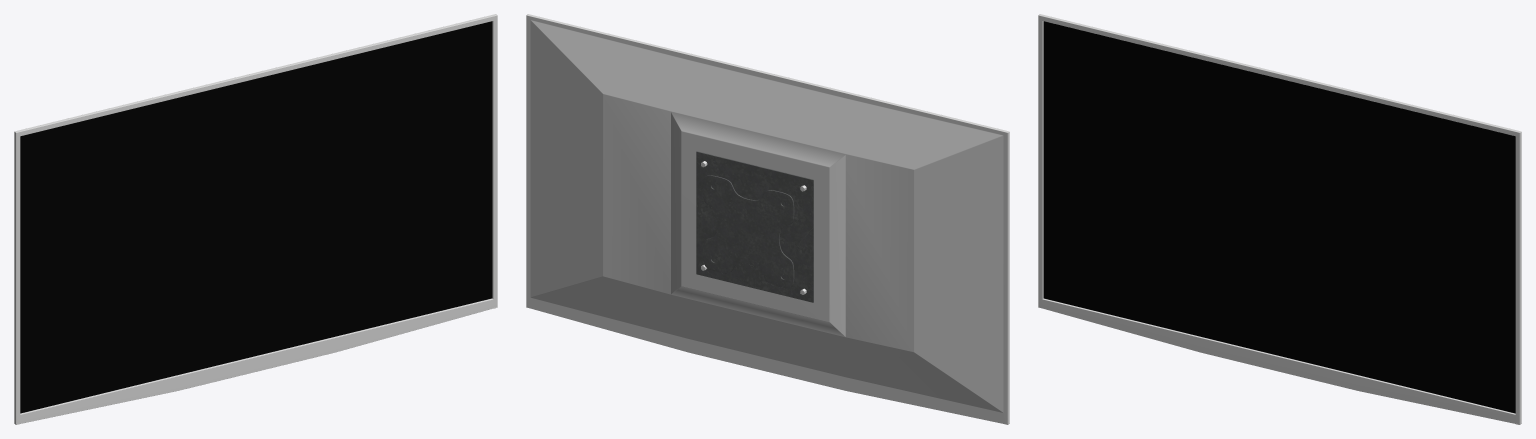
The model's file is Large TV Screen.fbx.
3 views of the same model, side by side, from view 1: azimuth 30°, elevation 25°; view 2: azimuth 150°, elevation 25°; view 3: azimuth 330°, elevation 25° (orthographic).
Visible parts, largest first — view 1: Plane.082; view 2: Plane.082; view 3: Plane.082.
Boxes of the visible parts, x1=… form: Plane.082: x1=14, y1=14, x2=497, y2=424; Plane.082: x1=526, y1=14, x2=1009, y2=424; Plane.082: x1=1038, y1=14, x2=1521, y2=424.
Size of the model in its own units: 135 by 79.92 by 10.08.
